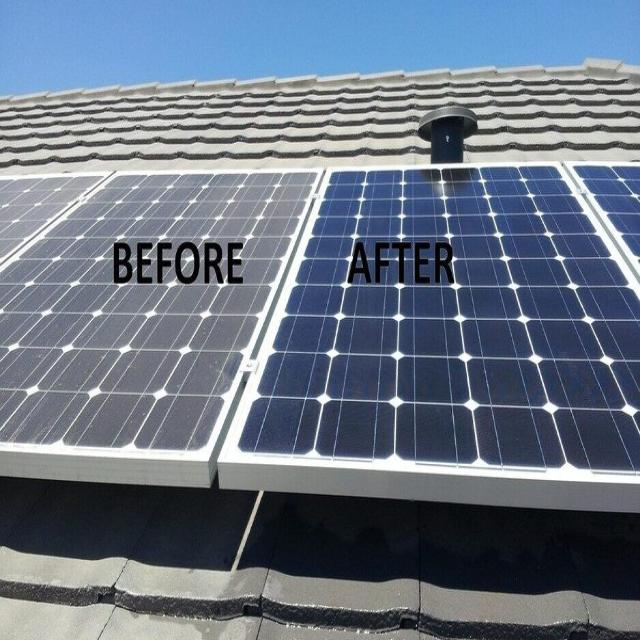clean-solar-panel: (221, 164, 640, 507)
